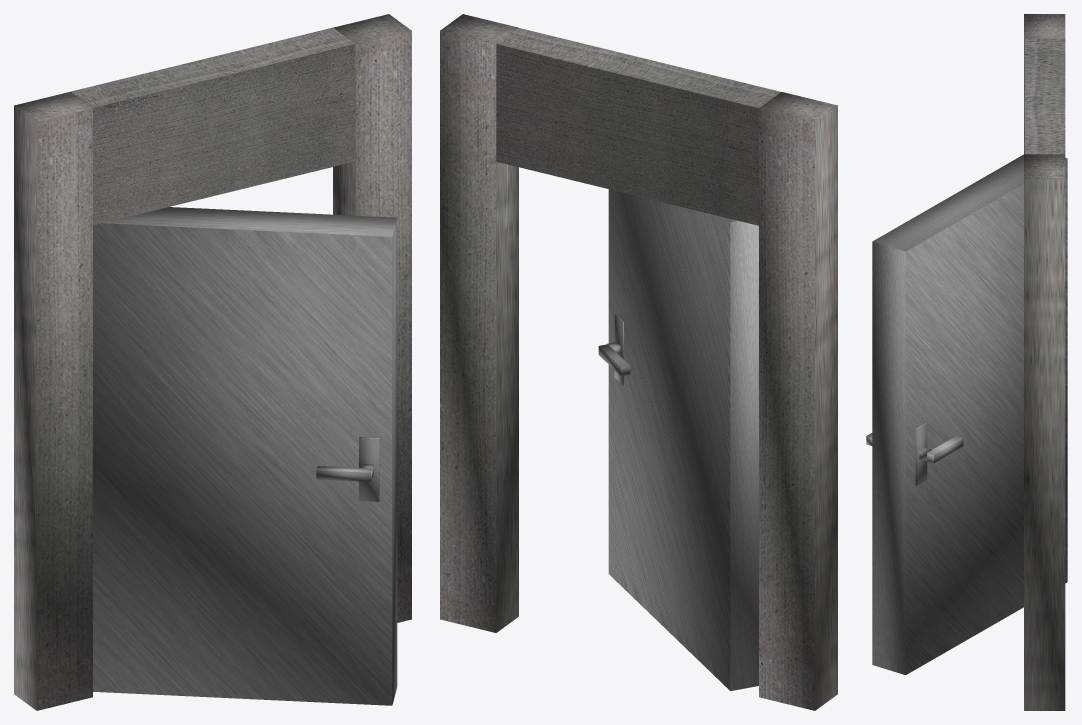
The model's file is metaldoor_000008.obj.
The picture shows the model from 3 angles, left to right: view 1: azimuth 30°, elevation 25°; view 2: azimuth 150°, elevation 25°; view 3: azimuth 270°, elevation 25°; orthographic projection. The views are drawn at different scales.
Parts seen in each view (by area): view 1: Cube.004_Cube.005, Cube.006_Cube.007; view 2: Cube.006_Cube.007, Cube.004_Cube.005; view 3: Cube.004_Cube.005, Cube.006_Cube.007.
Part boxes in pixels (x1,y1,x2,y2): Cube.004_Cube.005: (93,207,397,705); Cube.006_Cube.007: (14,14,411,710); Cube.006_Cube.007: (440,14,837,710); Cube.004_Cube.005: (598,189,758,691); Cube.004_Cube.005: (866,154,1067,675); Cube.006_Cube.007: (1024,14,1065,710).
Size of the model in its own units: 2 by 3 by 1.03.
